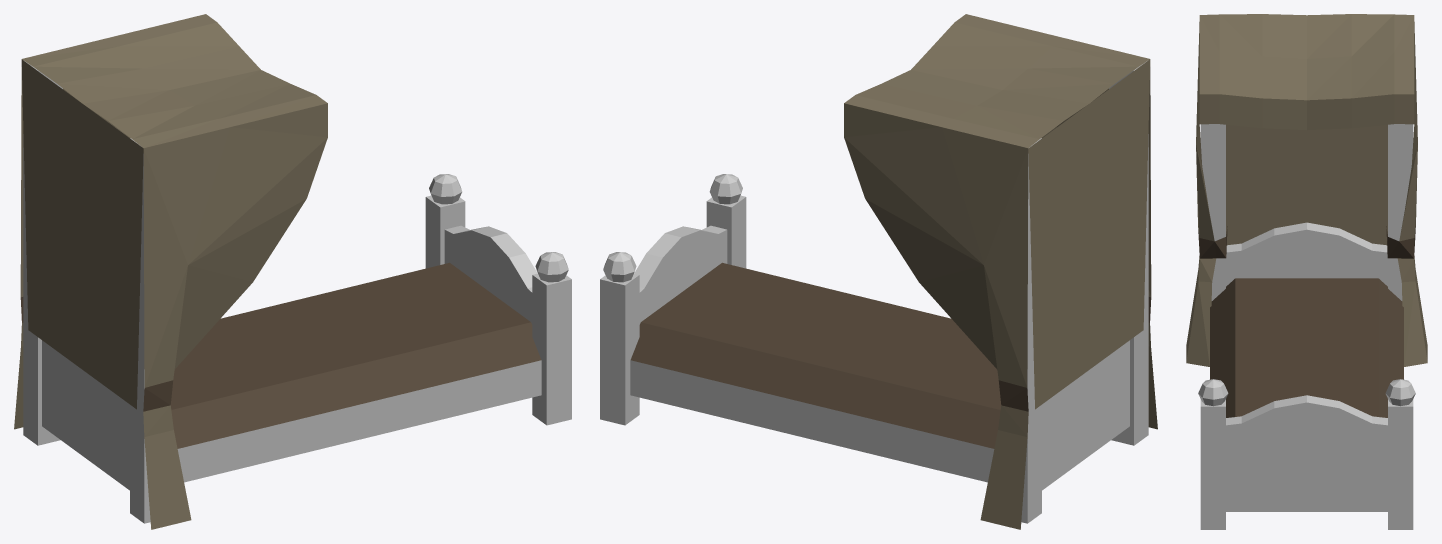
The model's file is BEDHIGH_NW_MASTER_01.OBJ.
The picture shows the model from 3 angles, left to right: view 1: azimuth 30°, elevation 25°; view 2: azimuth 150°, elevation 25°; view 3: azimuth 270°, elevation 25°; orthographic projection. The views are drawn at different scales.
Parts seen in each view (by area): view 1: BEDHIGH_NW_MASTER_01; view 2: BEDHIGH_NW_MASTER_01; view 3: BEDHIGH_NW_MASTER_01.
Part boxes in pixels (x1,y1,x2,y2): BEDHIGH_NW_MASTER_01: [14, 14, 571, 529]; BEDHIGH_NW_MASTER_01: [600, 14, 1157, 529]; BEDHIGH_NW_MASTER_01: [1186, 14, 1427, 529].
Size of the model in its own units: 2.57 by 2.15 by 1.42.
